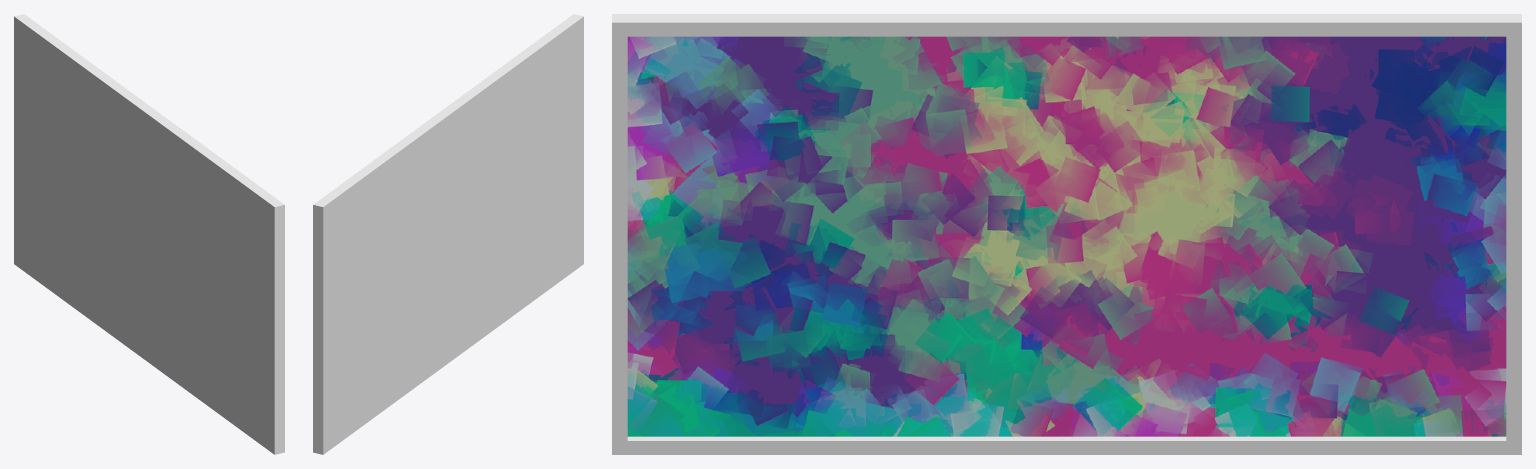
The model's file is Painting4.fbx.
The picture shows the model from 3 angles, left to right: view 1: azimuth 30°, elevation 25°; view 2: azimuth 150°, elevation 25°; view 3: azimuth 270°, elevation 25°; orthographic projection. The views are drawn at different scales.
Visible parts, largest first — view 1: Cube; view 2: Cube; view 3: Cube.
Boxes of the visible parts, <box> form: Cube: <box>14,14,284,454</box>; Cube: <box>313,14,583,454</box>; Cube: <box>612,14,1521,454</box>.
Size of the model in its own units: 3.6 by 83.85 by 160.
